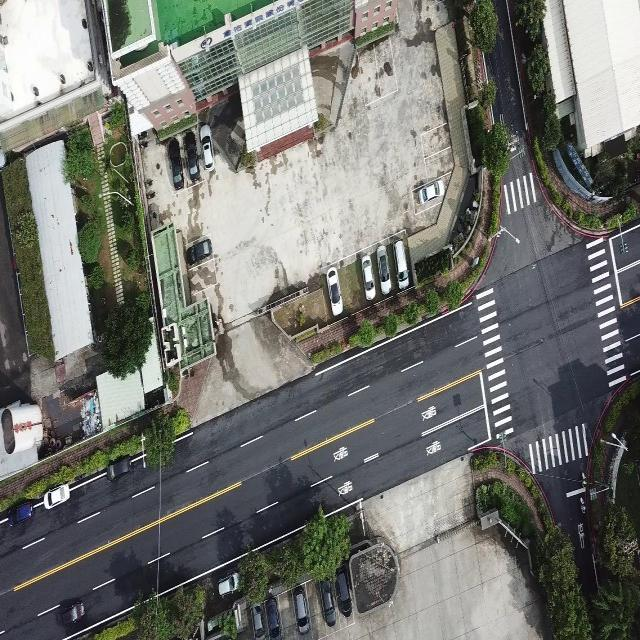car: (183, 235, 213, 269), (325, 266, 343, 316), (292, 585, 310, 634), (318, 578, 336, 626), (393, 240, 409, 290), (198, 123, 214, 171), (376, 244, 391, 295), (360, 254, 376, 300), (43, 482, 70, 509), (60, 597, 85, 626), (418, 179, 444, 205), (8, 500, 33, 526), (217, 572, 241, 599)
